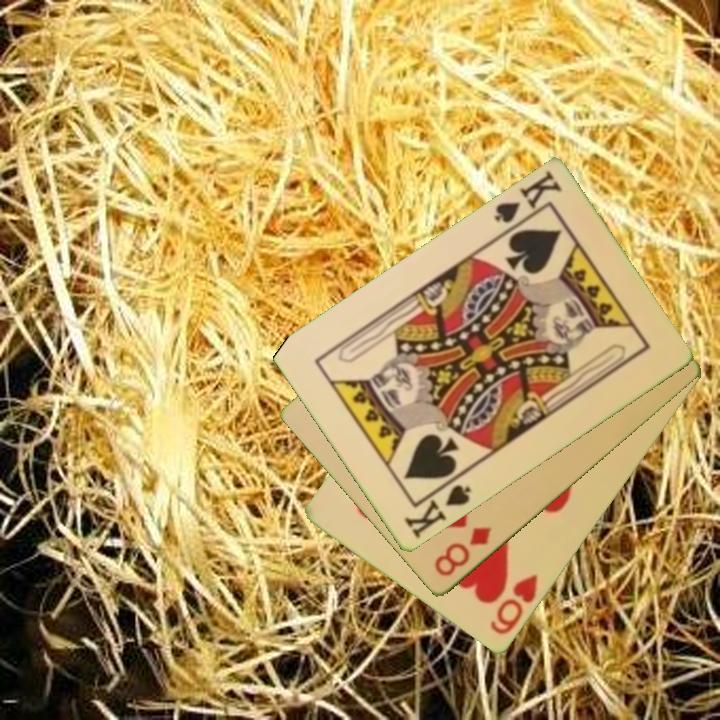6h: (486, 571, 541, 639)
8d: (430, 523, 495, 580)
Ks: (490, 167, 565, 237), (400, 473, 474, 542)
